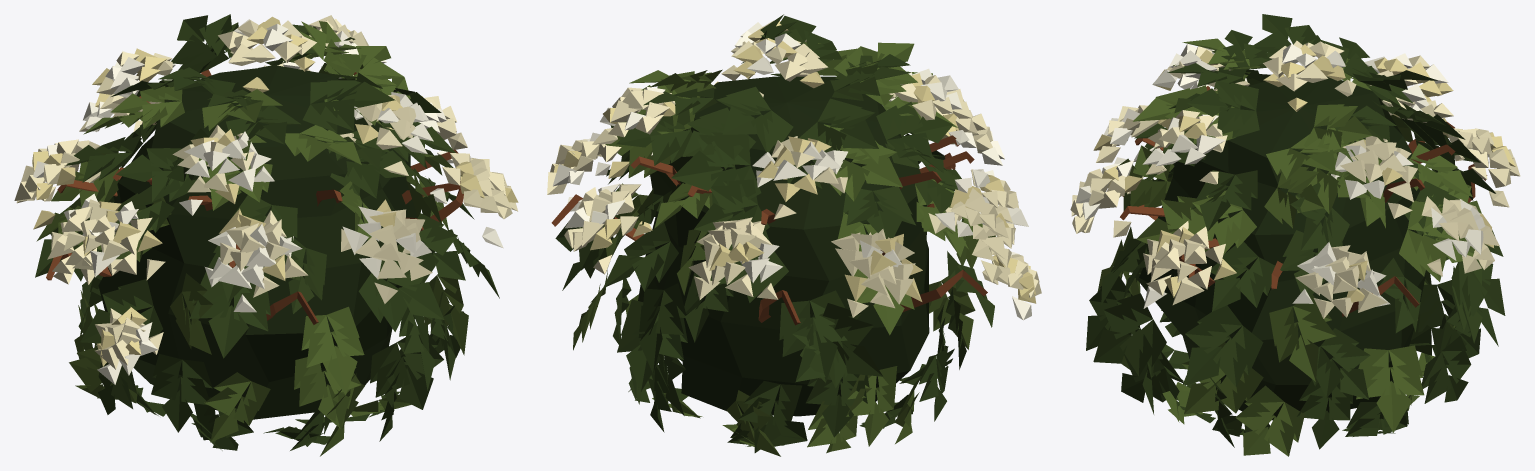
The picture shows the model from 3 angles, left to right: view 1: azimuth 30°, elevation 25°; view 2: azimuth 150°, elevation 25°; view 3: azimuth 270°, elevation 25°; orthographic projection. The views are drawn at different scales.
Visible parts, largest first — view 1: leaves_dark, foliage_core, leaves_mid, umbels_cream, umbels_ivory, umbels_butter, stems; view 2: leaves_dark, foliage_core, umbels_cream, leaves_mid, umbels_ivory, umbels_butter, stems; view 3: leaves_dark, leaves_mid, foliage_core, umbels_cream, umbels_ivory, umbels_butter, stems.
Part boxes in pixels (x1,y1,x2,y2): leaves_dark: (35,14,499,450); foliage_core: (98,65,434,419); leaves_mid: (36,21,468,456); umbels_cream: (14,15,518,369); umbels_ivory: (33,19,503,384); umbels_butter: (32,16,518,366); stems: (46,69,463,324); leaves_dark: (555,14,994,452); foliage_core: (638,76,929,416); umbels_cream: (547,20,1041,317); leaves_mid: (573,42,995,456); umbels_ivory: (553,22,1031,320); umbels_butter: (553,21,1036,303); stems: (551,135,987,325); leaves_dark: (1086,14,1505,449); leaves_mid: (1097,38,1481,456); foliage_core: (1135,76,1425,420); umbels_cream: (1070,40,1520,318); umbels_ivory: (1075,44,1489,308); umbels_butter: (1093,44,1515,302); stems: (1120,86,1487,316).
Bounding box in the file's own units: 4.09 × 3.15 × 3.79.
